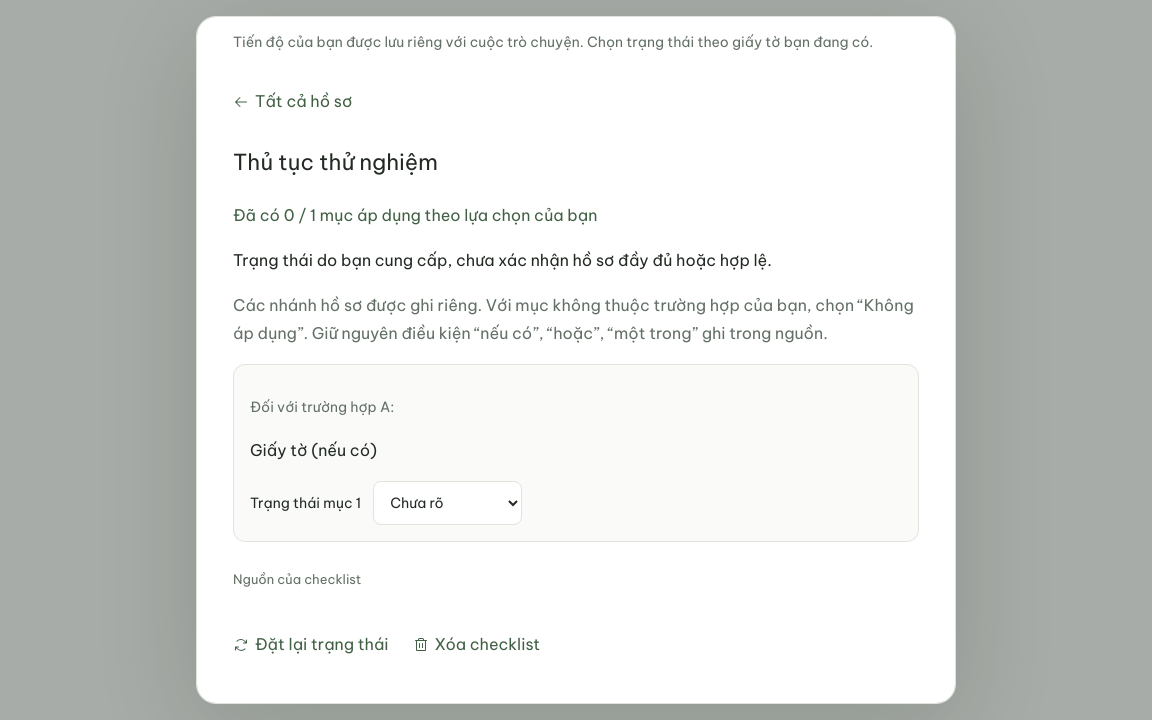
Test: requires confirmation before deleting progress
(page scrolled)
Click the button "Xóa checklist" at (476, 645), box [413,622,540,667]
(page scrolled)
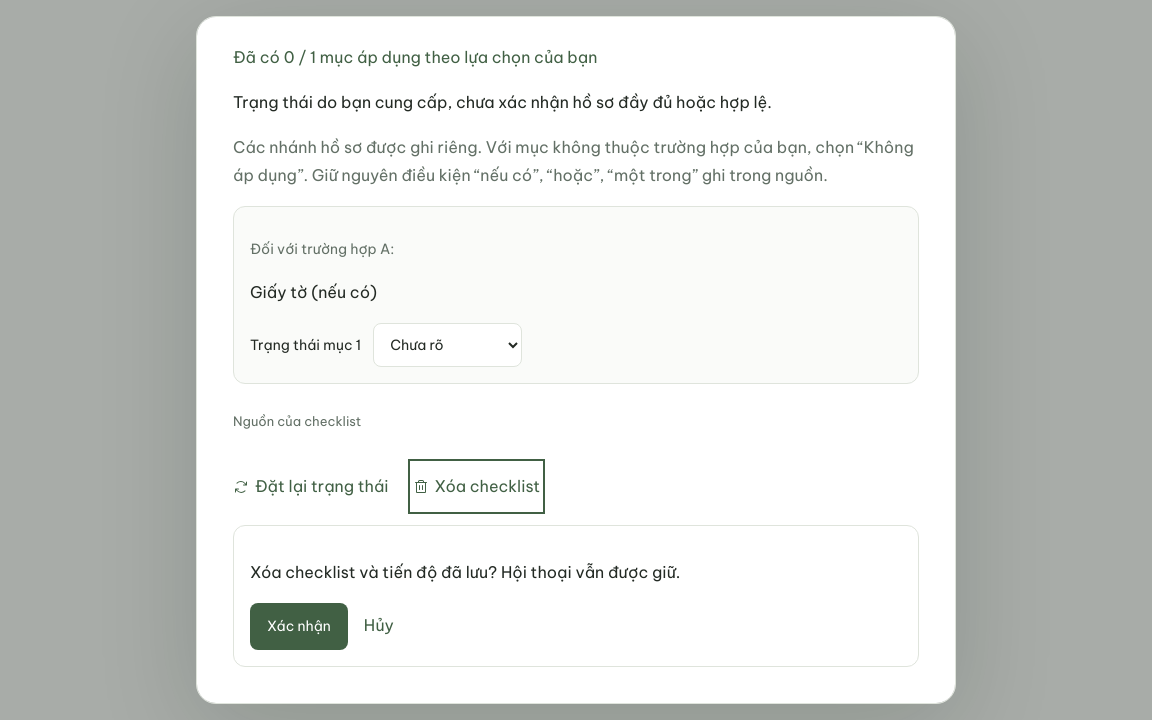
Click the button "Xác nhận" at (299, 626), box [250,603,348,650]
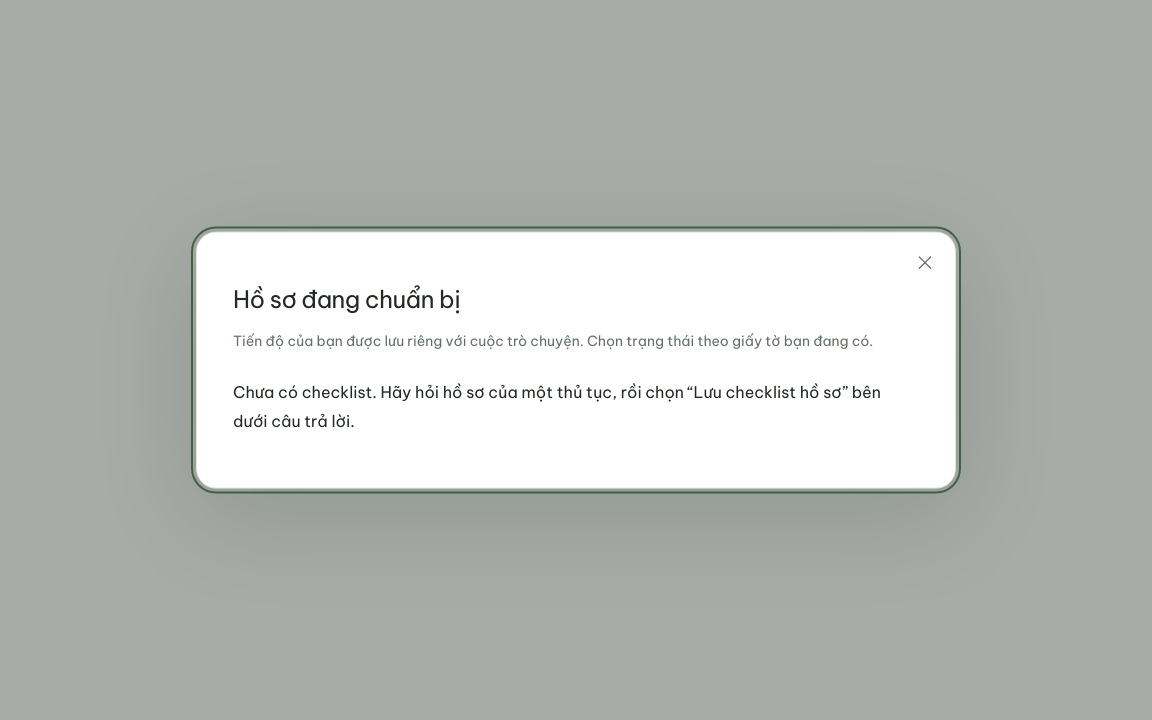
Expected: the text "Chưa có checklist" is shown, [233,382,881,431]
